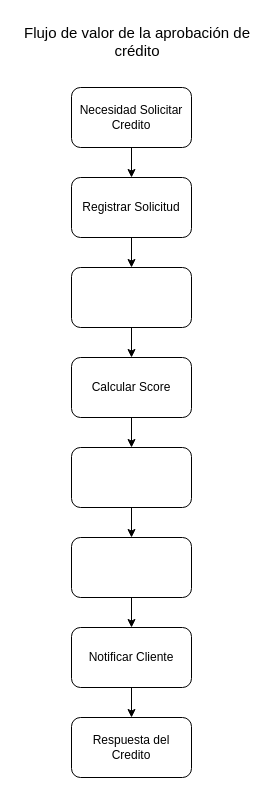
Image size: 274x795. Some labels were removed from this diagram. Each missing label, with the centre of its shape:
Evaluar Solicitud: pixel 131 477
Tomar Decision: pixel 131 567
Validar Informacion: pixel 131 297
